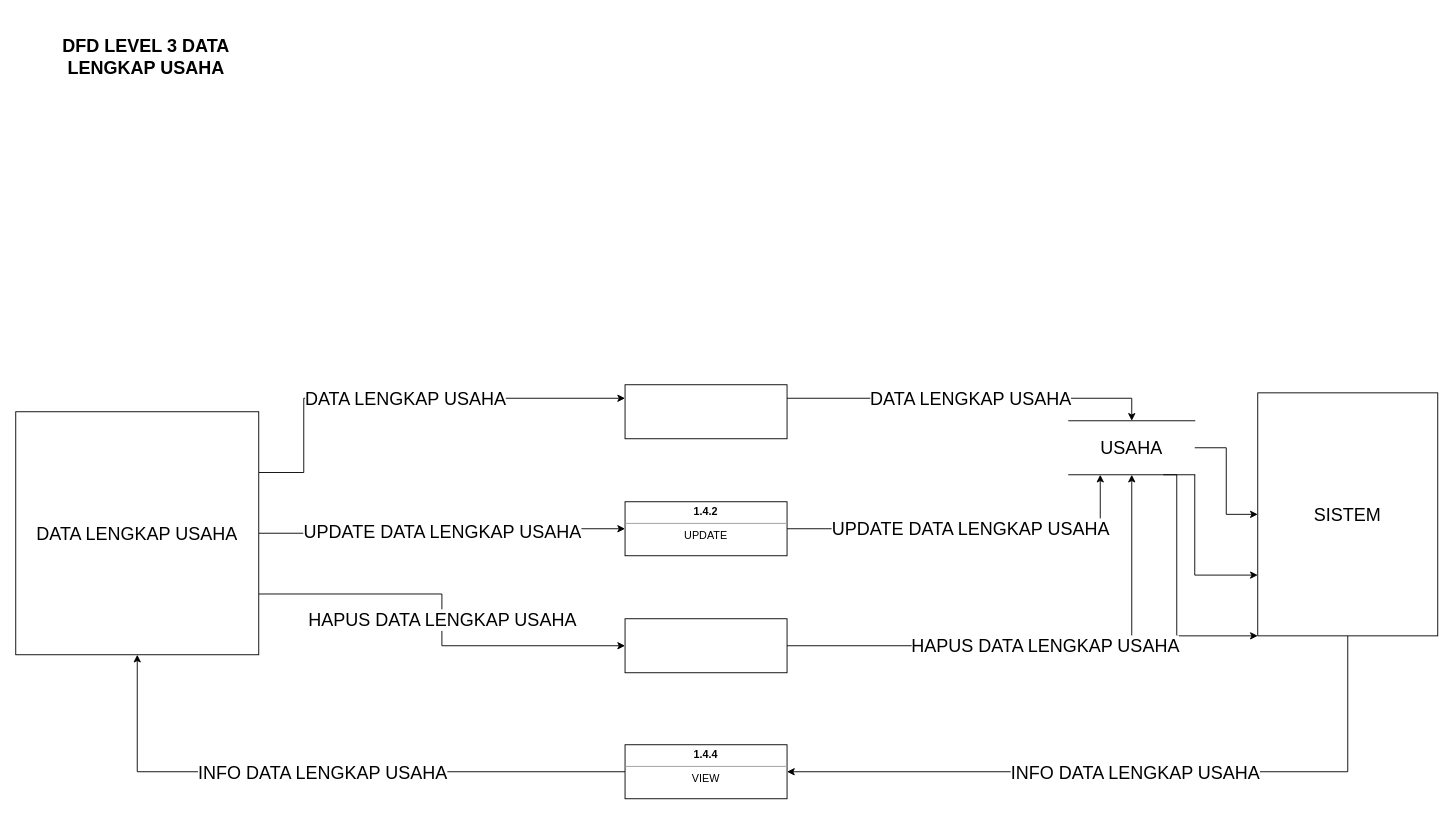
This 1454x815 diagram has some shape labels left out. Here are the shapes that lost their labels. From the top down, the centre of each, then its label:
point (705, 411): 1.4.1 INSERT
point (705, 645): 1.4.3 DELETE
